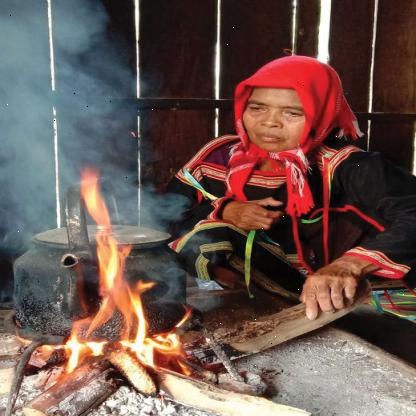fire: (0, 169, 194, 373)
smoke: (0, 1, 223, 302)
